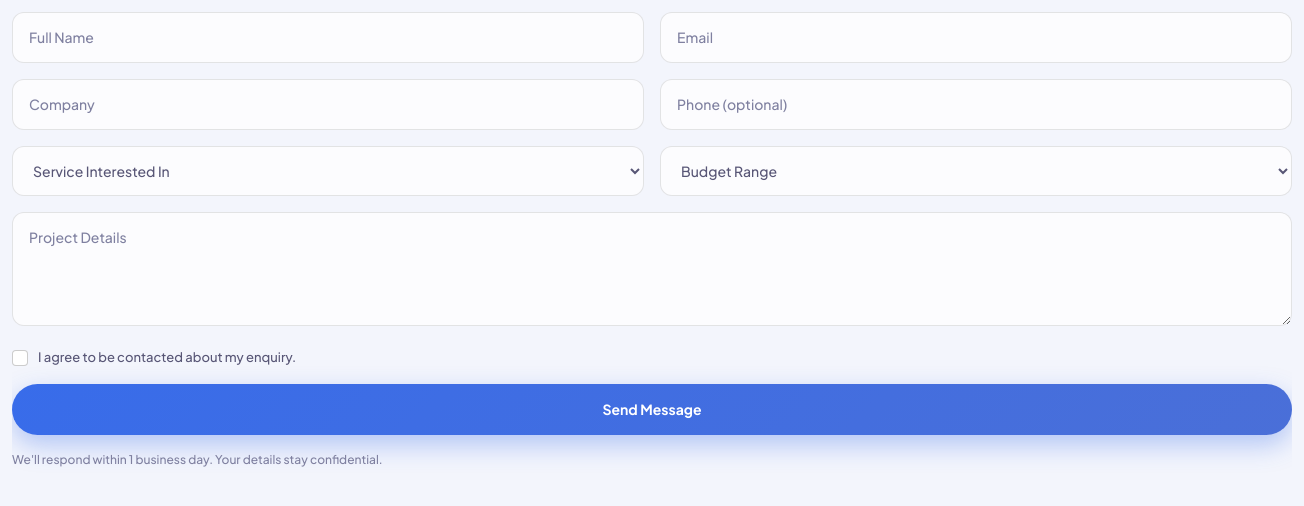
Test: ContactForm › validates email on blur
This screenshot has width=1304, height=506.
Type "bad" into the field with placeholder "Email".
click(976, 38); type("bad")  # box [660,12,1292,63]
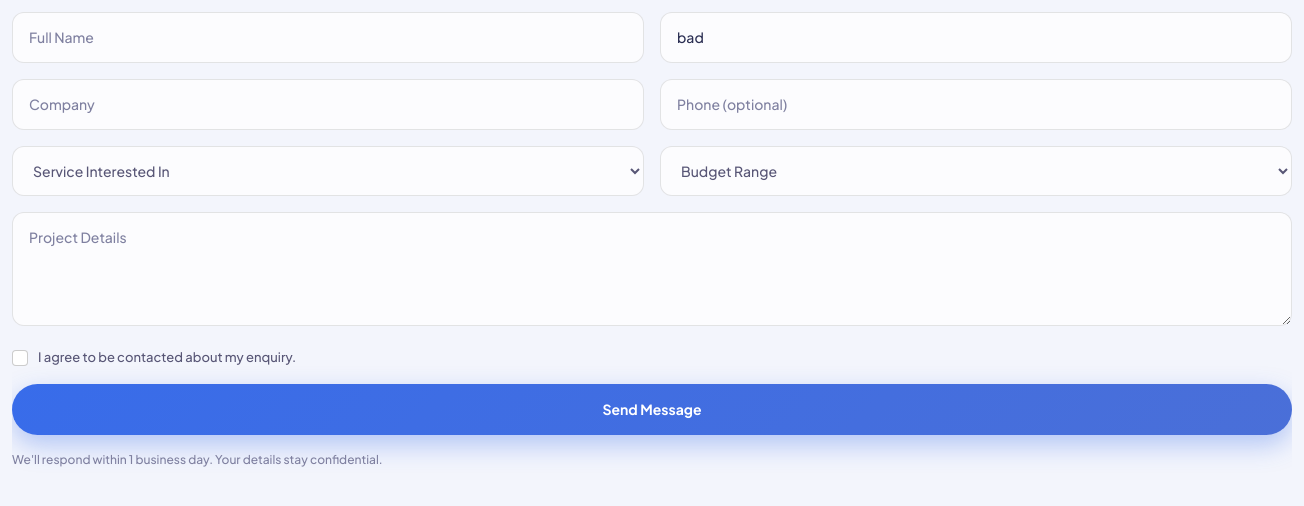
Leave the field with placeholder "Email", box [660,12,1292,63]
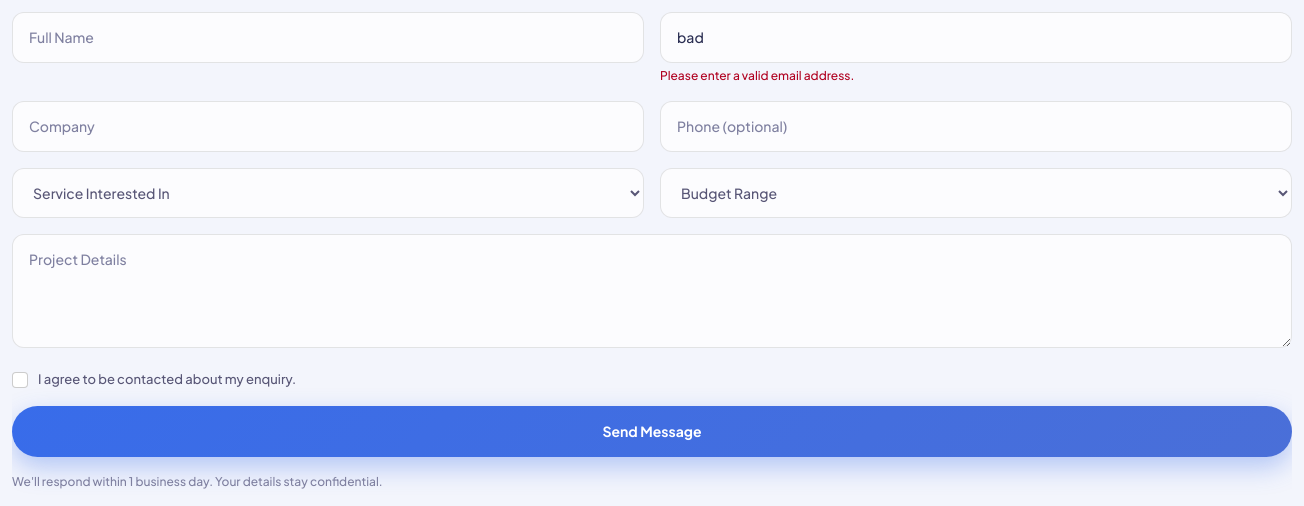
Now the text "Please enter a valid email address." is shown, box [660,68,854,83]
